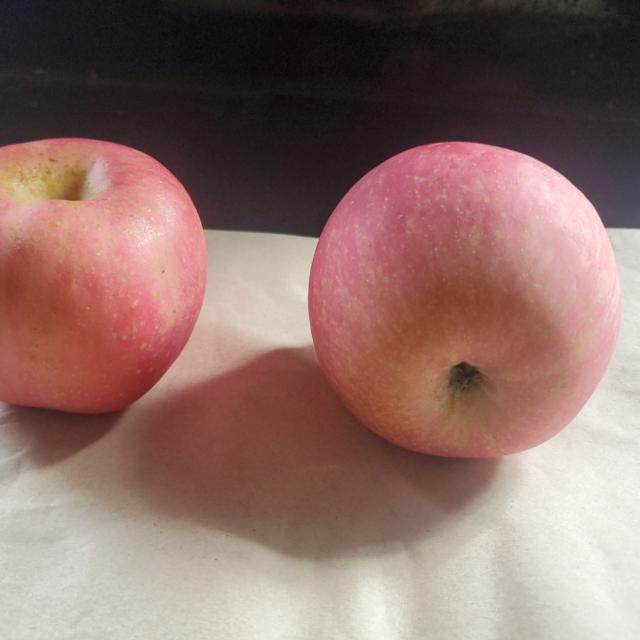apple: (308, 141, 619, 460), (0, 140, 204, 416)
